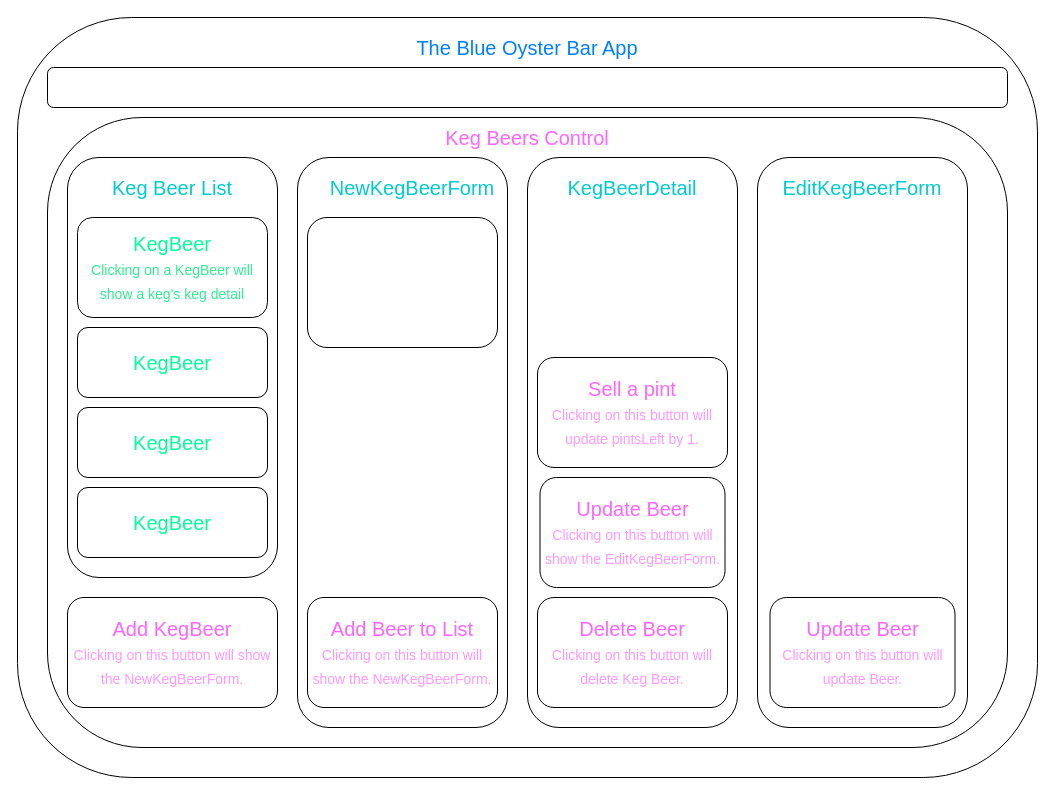
This 1055x795 diagram has some shape labels left out. Here are the shapes that lost their labels. From the top down, the box of each, then its label:
(46, 66, 1008, 108): Header
(306, 216, 498, 348): name brand price alcoholContent pintsLeft(124)
